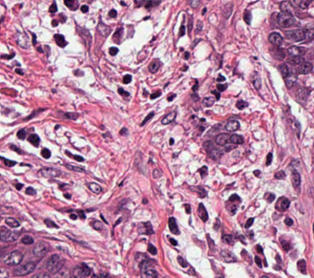nucleus: (0, 226, 16, 240), (38, 167, 60, 177), (140, 111, 154, 125), (97, 21, 110, 36), (161, 111, 176, 124), (168, 217, 179, 234), (65, 151, 83, 161), (269, 32, 282, 45), (215, 133, 229, 145), (54, 34, 66, 47), (271, 47, 284, 59), (148, 59, 160, 72), (208, 147, 221, 159), (225, 120, 239, 131), (138, 222, 152, 233), (198, 203, 207, 220), (191, 186, 206, 196), (27, 134, 39, 146), (88, 182, 101, 193), (5, 217, 19, 227), (66, 163, 83, 171), (113, 27, 122, 42), (230, 134, 243, 144), (252, 72, 260, 88), (1, 157, 15, 166), (64, 0, 77, 9), (91, 220, 102, 230), (222, 234, 233, 244), (21, 235, 33, 244), (145, 1, 160, 8), (44, 219, 57, 227), (118, 87, 129, 96), (203, 97, 214, 106), (64, 112, 78, 119), (243, 10, 250, 23), (204, 141, 213, 151), (41, 148, 50, 158), (199, 166, 207, 177), (122, 74, 131, 83), (150, 90, 160, 98), (49, 1, 56, 12), (236, 101, 247, 108), (10, 145, 21, 152), (109, 47, 118, 55), (17, 129, 25, 138), (266, 152, 272, 164), (153, 168, 161, 177), (245, 218, 253, 227), (189, 0, 199, 7), (274, 171, 284, 178), (229, 194, 239, 201), (196, 21, 202, 32), (108, 9, 116, 17), (266, 193, 274, 201), (26, 187, 35, 194), (188, 16, 192, 31), (80, 5, 88, 12), (212, 90, 219, 98), (77, 210, 84, 218), (217, 84, 226, 90), (179, 25, 184, 35), (15, 68, 23, 74), (119, 128, 127, 134), (184, 204, 190, 212), (134, 0, 143, 5), (192, 81, 197, 90), (225, 145, 234, 150), (217, 75, 224, 81), (167, 94, 174, 100), (74, 70, 82, 75), (70, 213, 76, 219), (170, 238, 176, 244), (32, 33, 35, 44), (52, 20, 57, 26), (16, 184, 22, 189), (254, 170, 259, 175), (119, 1, 125, 5), (184, 52, 188, 58), (143, 89, 147, 95), (169, 138, 173, 144), (64, 194, 70, 197), (202, 8, 205, 13)
